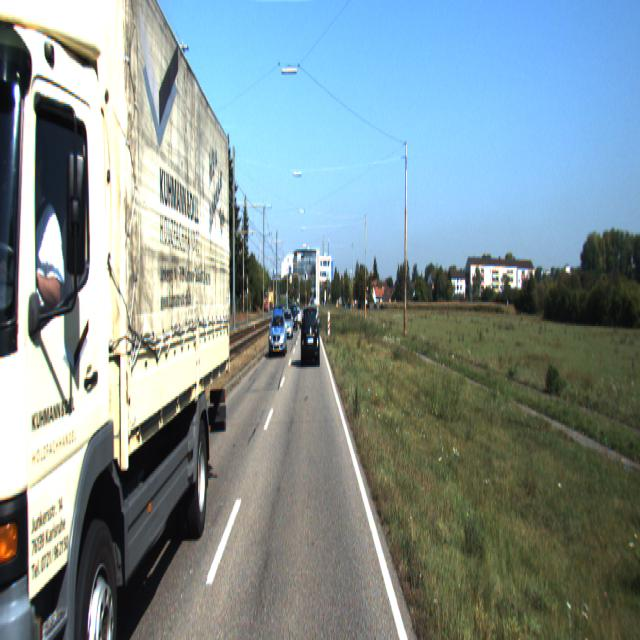Car: (28, 0, 236, 639), (302, 304, 321, 368), (269, 306, 288, 359), (162, 315, 182, 352), (282, 309, 294, 340)
